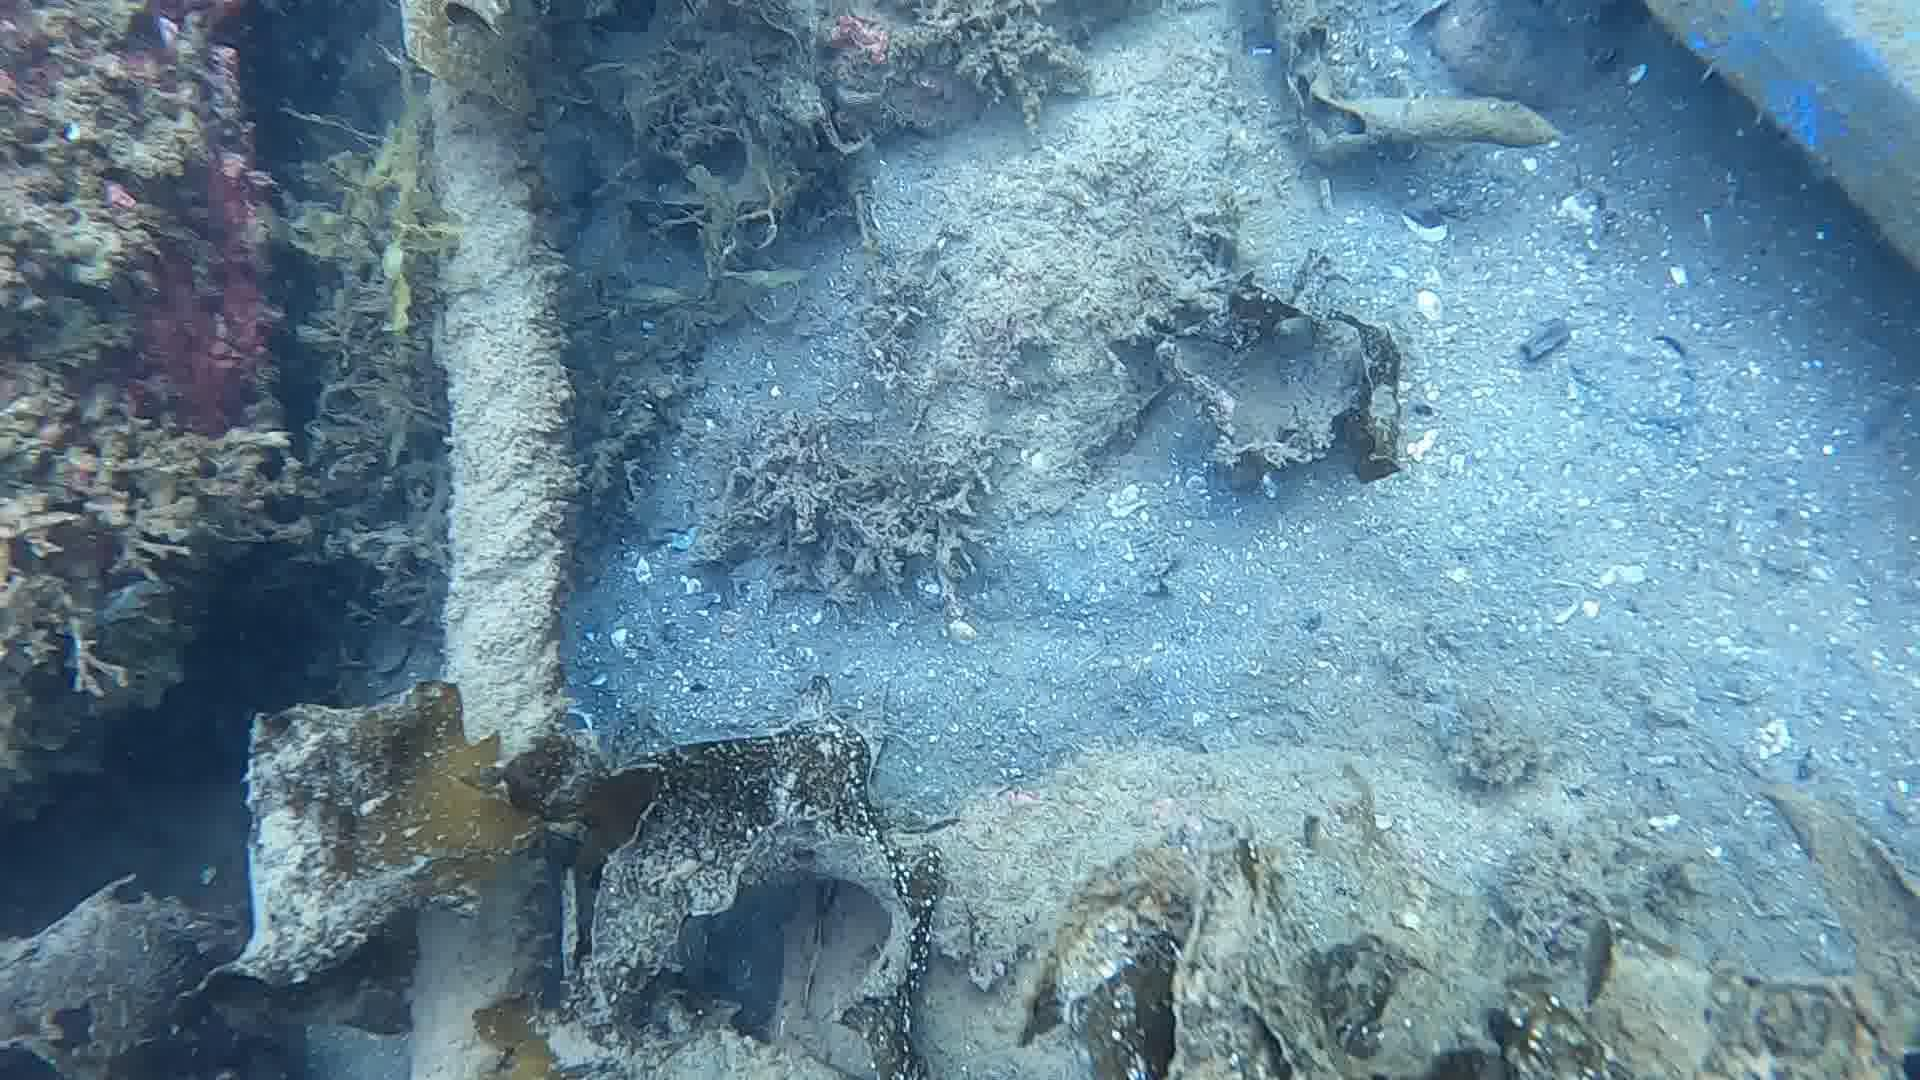rope: (405, 0, 574, 1080)
